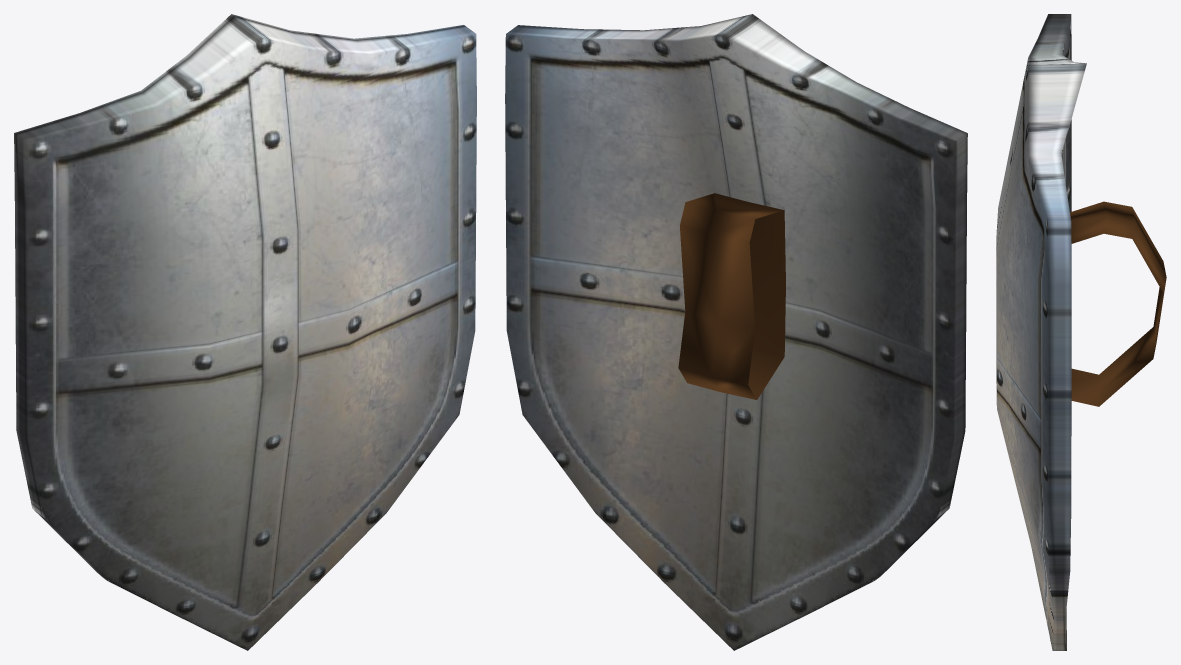
Rendered from kilpi.fbx.
The picture shows the model from 3 angles, left to right: view 1: azimuth 30°, elevation 25°; view 2: azimuth 150°, elevation 25°; view 3: azimuth 270°, elevation 25°; orthographic projection. The views are drawn at different scales.
Parts seen in each view (by area): view 1: Cube; view 2: Cube; view 3: Cube.
Part boxes in pixels (<box>): Cube: <box>14,14,476,650</box>; Cube: <box>505,14,967,650</box>; Cube: <box>996,14,1166,650</box>.
Bounding box in the file's own units: 322 × 426 × 112.
